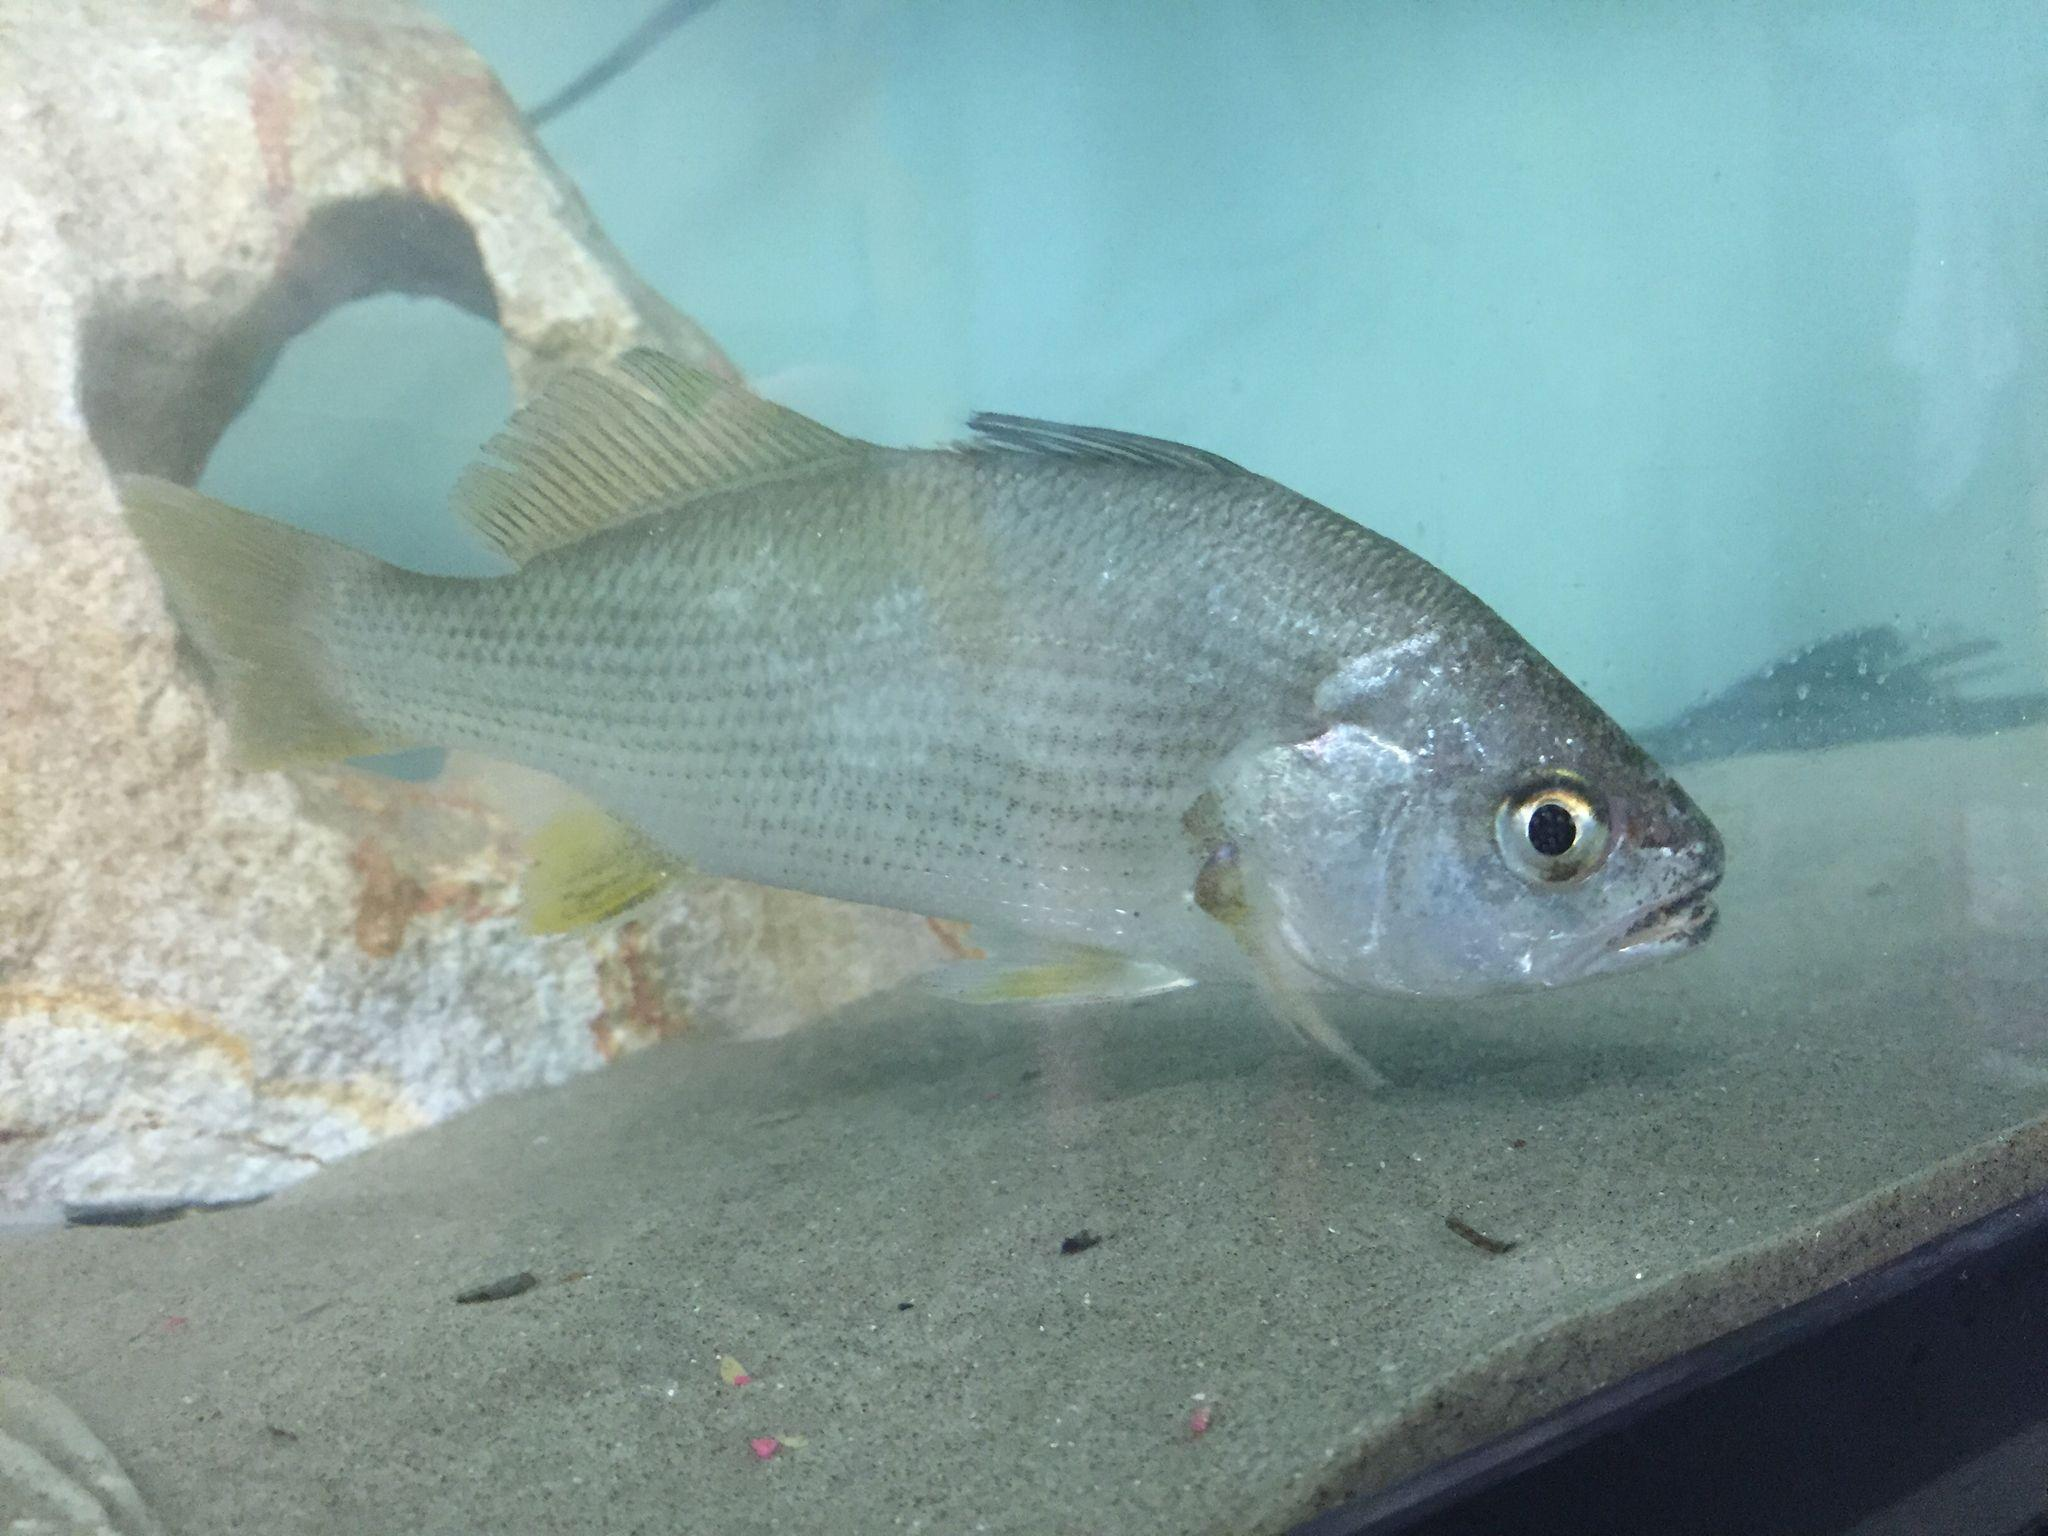Silver Perch: (94, 353, 1714, 1097)
